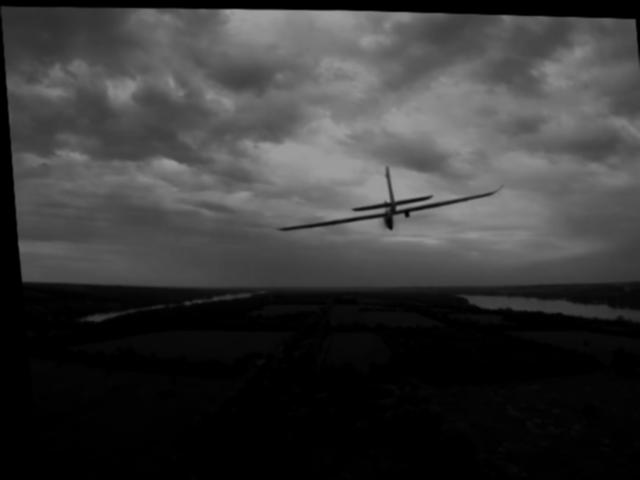hedef: (262, 158, 522, 254)
